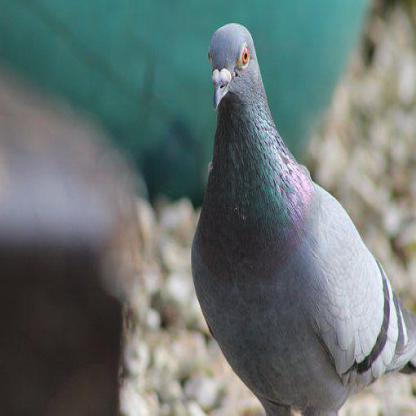Flying Rat: (187, 23, 413, 416)
